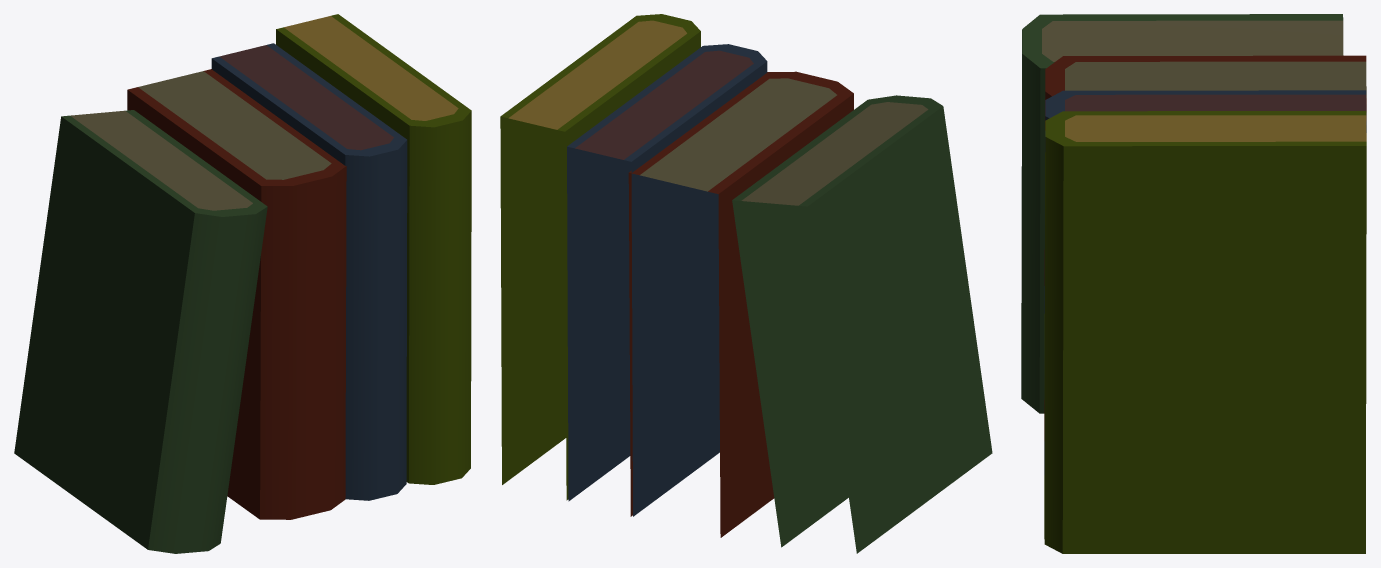
The model's file is prop_book_small_01.gltf.
The picture shows the model from 3 angles, left to right: view 1: azimuth 30°, elevation 25°; view 2: azimuth 150°, elevation 25°; view 3: azimuth 270°, elevation 25°; orthographic projection. The views are drawn at different scales.
Visible parts, largest first — view 1: BookGroup_Small_1; view 2: BookGroup_Small_1; view 3: BookGroup_Small_1.
Part boxes in pixels (bbox=[...]): BookGroup_Small_1: bbox=[14, 14, 471, 553]; BookGroup_Small_1: bbox=[500, 14, 992, 553]; BookGroup_Small_1: bbox=[1021, 14, 1366, 553].
Bounding box in the file's own units: 0.2893 × 0.2983 × 0.2256.
